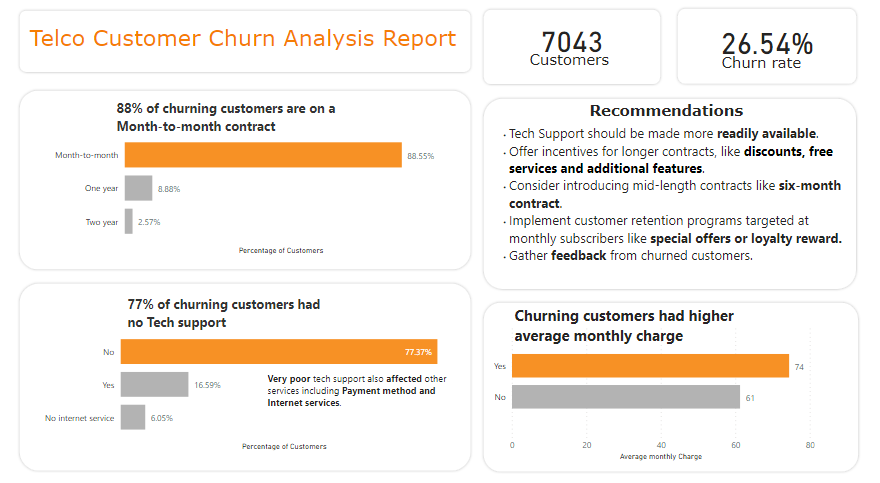

Layout of this report page (visuals, bound fields, positions):
{"tool":"powerbi","page":{"name":"Page 1","canvas":[1280,720],"ordinal":0},"visuals":[{"type":"shape","box":[18,23.3,611.4,90.7],"z":0,"group":"g5"},{"type":"textbox","box":[81.1,40.6,485.3,56.2],"z":1000,"group":"g5"},{"type":"shape","box":[675.4,23,272.1,115.9],"z":2000,"group":"g2"},{"type":"card","fields":{"Values":["MyMeasures.Total count of customers"]},"box":[758.6,37.6,105.8,58.8],"z":3000,"group":"g1"},{"type":"textbox","box":[735.9,76.7,151.2,47.5],"z":4000,"group":"g1"},{"type":"shape","box":[977.8,23,265.4,115.9],"z":5000,"group":"g4"},{"type":"card","fields":{"Values":["MyMeasures.Churn rate"]},"box":[1040.8,38,139.4,63.8],"z":6000,"group":"g3"},{"type":"textbox","box":[1034.2,77.8,152.6,46.1],"z":7000,"group":"g3"},{"type":"shape","box":[28.6,416.6,656.8,277.2],"z":8000},{"type":"barChart","fields":{"Category":["Telco-Customer-Churn.TechSupport"],"Y":["CountNonNull(Telco-Customer-Churn.customerID)"]},"box":[55.4,468.7,599.7,196.5],"z":9000},{"type":"shape","box":[28.6,139.4,656.8,253.6],"z":10000},{"type":"barChart","fields":{"Category":["Telco-Customer-Churn.Contract"],"Y":["CountNonNull(Telco-Customer-Churn.customerID)"]},"box":[70.6,184.3,568.8,198.7],"z":11000},{"type":"shape","box":[734.4,453.6,509.8,240.5],"z":12000},{"type":"barChart","fields":{"Category":["Telco-Customer-Churn.Churn"],"Y":["Avg(Telco-Customer-Churn.MonthlyCharges)"]},"box":[753.1,481,473.8,211.7],"z":13000},{"type":"shape","box":[734.4,161.3,509.8,270.7],"z":14000},{"type":"textbox","box":[167,149.8,334.1,70.6],"z":15000},{"type":"textbox","box":[182.9,432,301,70.6],"z":16000},{"type":"textbox","box":[792,453.6,373,73.4],"z":17000},{"type":"textbox","box":[878.4,161.3,208.8,40.3],"z":18000},{"type":"textbox","box":[744.5,185.8,482.4,246.2],"z":19000},{"type":"textbox","box":[384.5,542.9,301,61.9],"z":19001},{"type":"group","id":"g1","title":"Group 1","box":[735.9,37.6,151.2,86.6],"z":19002,"group":"g2"},{"type":"group","id":"g2","title":"Group 2","box":[675.4,23,272.2,115.2],"z":19003},{"type":"group","id":"g3","title":"Group 3","box":[1034.2,38,152.6,85.9],"z":19004,"group":"g4"},{"type":"group","id":"g4","title":"Group 4","box":[977.8,23,266.4,116.6],"z":19005},{"type":"group","id":"g5","title":"Group 5","box":[18,23.3,611.4,90.7],"z":19006}]}

Visuals, with their boxes in screenshot pixels (x1, y1, x2, y2), scaled from the page's 1280x720 canvas onto the 880x483 screenshot:
shape: [x1=12, y1=16, x2=433, y2=76]
textbox: [x1=56, y1=27, x2=389, y2=65]
shape: [x1=464, y1=15, x2=651, y2=93]
card - MyMeasures.Total count of customers: [x1=522, y1=25, x2=594, y2=65]
textbox: [x1=506, y1=51, x2=610, y2=83]
shape: [x1=672, y1=15, x2=855, y2=93]
card - MyMeasures.Churn rate: [x1=716, y1=25, x2=811, y2=68]
textbox: [x1=711, y1=52, x2=816, y2=83]
shape: [x1=20, y1=279, x2=471, y2=465]
barChart - Telco-Customer-Churn.TechSupport x CountNonNull(Telco-Customer-Churn.customerID): [x1=38, y1=314, x2=450, y2=446]
shape: [x1=20, y1=94, x2=471, y2=264]
barChart - Telco-Customer-Churn.Contract x CountNonNull(Telco-Customer-Churn.customerID): [x1=49, y1=124, x2=440, y2=257]
shape: [x1=505, y1=304, x2=855, y2=466]
barChart - Telco-Customer-Churn.Churn x Avg(Telco-Customer-Churn.MonthlyCharges): [x1=518, y1=323, x2=843, y2=465]
shape: [x1=505, y1=108, x2=855, y2=290]
textbox: [x1=115, y1=100, x2=345, y2=148]
textbox: [x1=126, y1=290, x2=333, y2=337]
textbox: [x1=544, y1=304, x2=801, y2=354]
textbox: [x1=604, y1=108, x2=747, y2=135]
textbox: [x1=512, y1=125, x2=843, y2=290]
textbox: [x1=264, y1=364, x2=471, y2=406]
"Group 1" group: [x1=506, y1=25, x2=610, y2=83]
"Group 2" group: [x1=464, y1=15, x2=651, y2=93]
"Group 3" group: [x1=711, y1=25, x2=816, y2=83]
"Group 4" group: [x1=672, y1=15, x2=855, y2=94]
"Group 5" group: [x1=12, y1=16, x2=433, y2=76]
